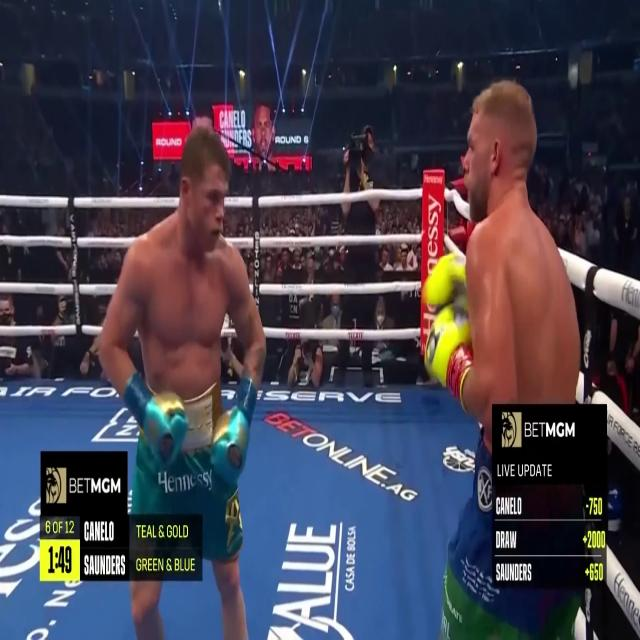boxer_1: (463, 82, 580, 402)
boxer_2: (139, 130, 229, 399)
gloves_1: (422, 251, 472, 395)
gloves_2: (123, 373, 188, 466), (210, 379, 257, 483)
